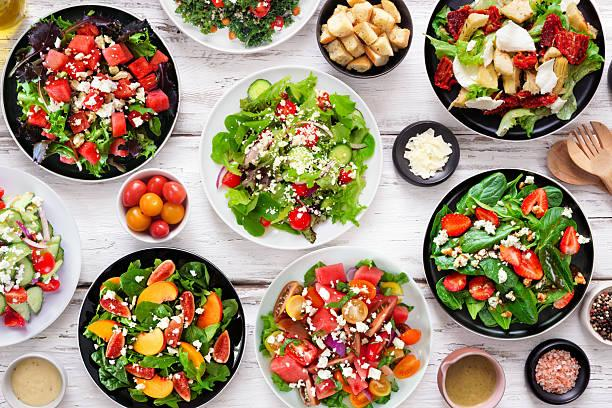Braised Crucian Carp: (199, 65, 374, 251), (1, 3, 179, 183), (423, 169, 593, 337), (253, 246, 429, 407), (77, 249, 243, 406), (422, 1, 600, 140)
